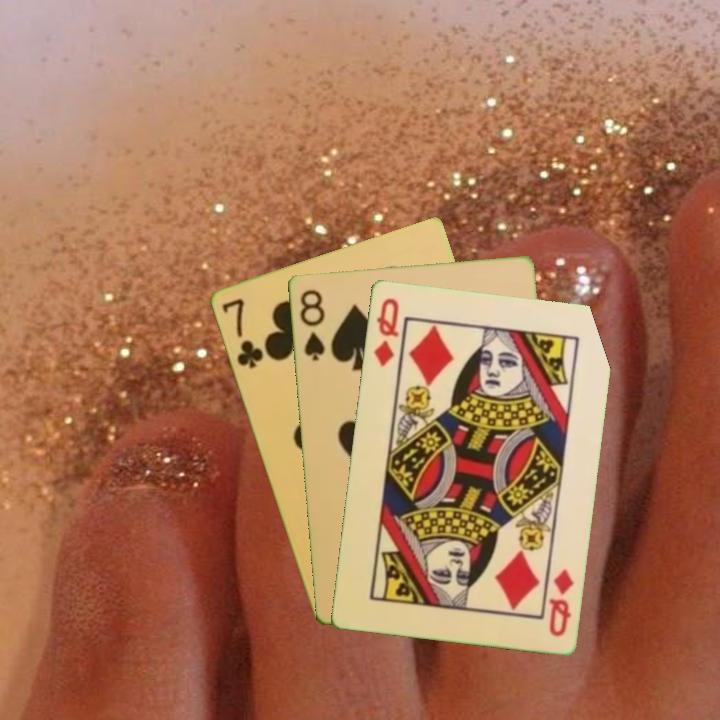7c: (217, 294, 266, 371)
8s: (296, 286, 327, 363)
Qd: (370, 294, 402, 370), (545, 564, 577, 639)
